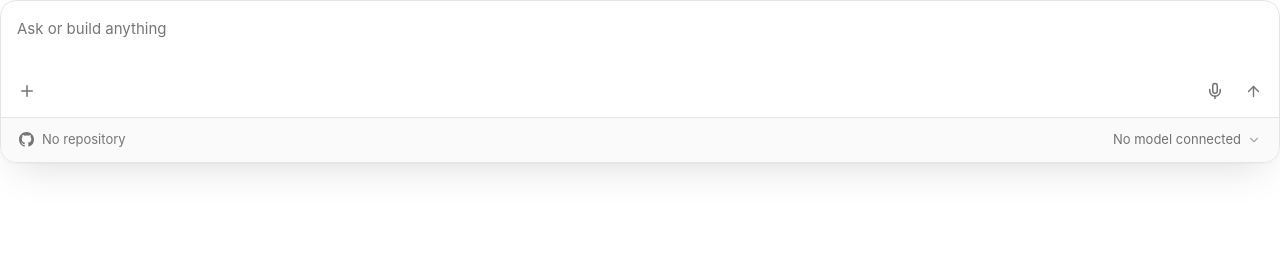
Test: Composer › Skip required checks › closes the add menu once the skip is toggled, so the chip it produced is in view
Press the mouse on the button named "Add" at (27, 91), box [11,75,43,107]
Click the button named "Add" at (27, 91), box [11,75,43,107]
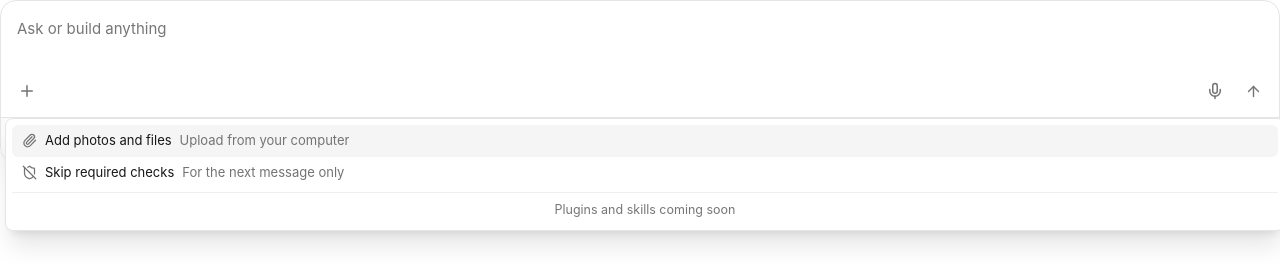
Press the mouse on the menu item "Skip required checks For the next message only" at (183, 172), box [22,164,344,180]
Click the menu item "Skip required checks For the next message only" at (183, 172), box [22,164,344,180]
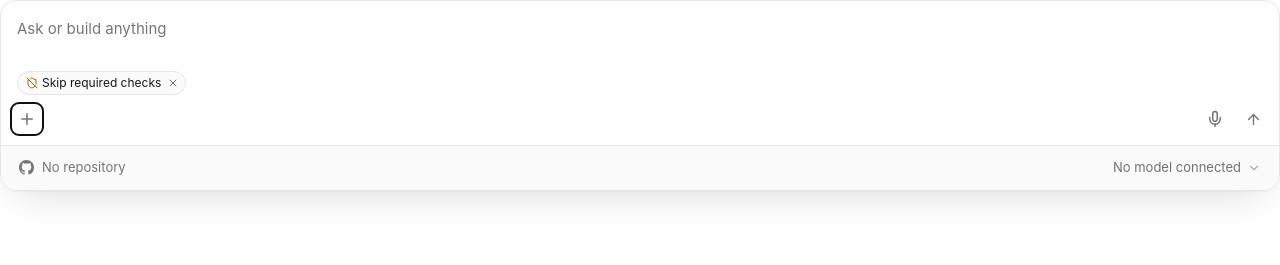
expect the element with test id "composer-skip-chip" is shown: met, box [17,71,186,95]
expect the menu is gone: met
